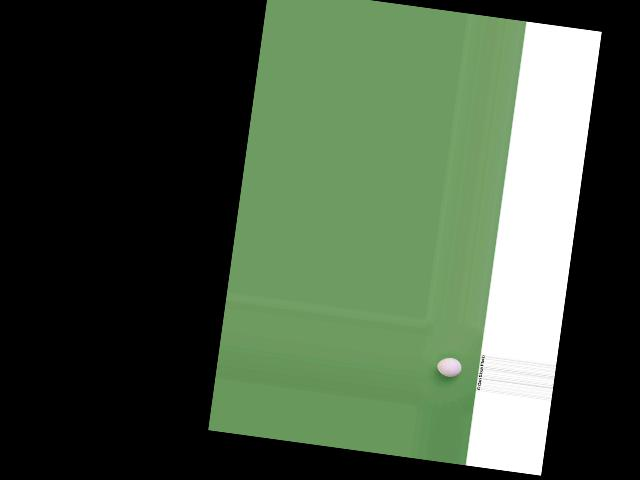egg: (436, 356, 462, 377)
